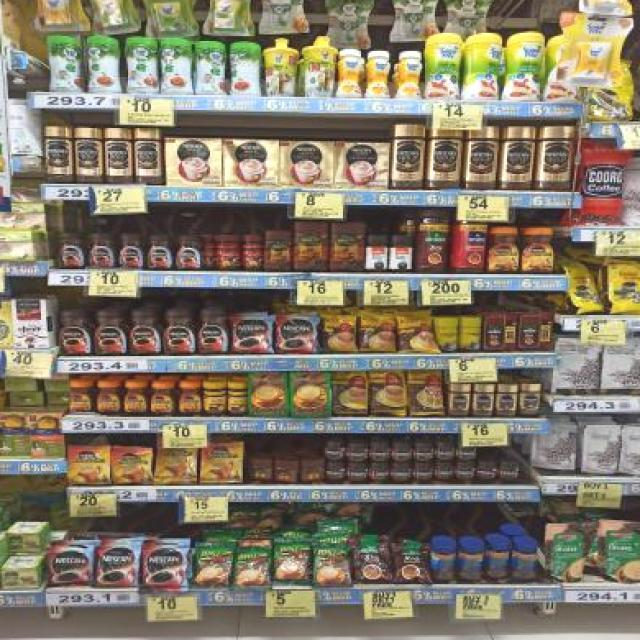Coffee: (390, 124, 426, 192), (500, 124, 536, 190), (537, 125, 572, 190), (464, 126, 499, 190), (430, 128, 461, 190), (146, 550, 190, 591), (72, 127, 101, 185), (200, 444, 242, 484), (486, 228, 522, 274), (45, 125, 73, 184), (67, 446, 110, 484), (105, 128, 134, 184), (98, 548, 138, 588), (48, 550, 92, 586), (522, 227, 554, 275), (112, 446, 152, 484), (157, 447, 197, 485), (134, 128, 161, 184), (232, 317, 272, 354), (277, 318, 317, 355), (94, 310, 126, 355), (197, 310, 230, 353), (130, 311, 162, 355), (164, 311, 195, 355), (60, 312, 91, 353), (87, 232, 116, 268), (57, 232, 86, 267), (149, 381, 176, 417), (118, 232, 144, 268), (145, 235, 172, 269), (96, 382, 122, 416), (122, 382, 148, 416), (178, 234, 202, 270), (177, 383, 202, 416), (68, 384, 94, 414), (522, 383, 540, 416), (450, 384, 469, 415), (474, 384, 493, 415), (498, 385, 516, 416), (322, 438, 346, 461), (434, 460, 454, 480), (326, 461, 346, 481), (348, 462, 368, 482), (414, 462, 434, 482), (370, 464, 390, 483), (412, 442, 434, 459), (370, 442, 390, 460), (348, 444, 369, 461), (393, 443, 413, 460), (393, 464, 413, 481), (436, 443, 455, 460), (501, 462, 521, 478), (456, 462, 476, 478), (478, 462, 498, 478), (457, 447, 478, 460)
